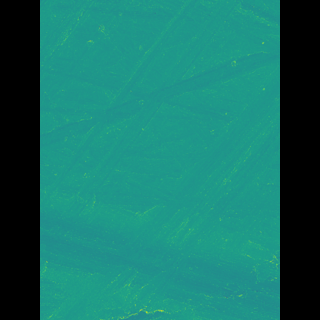Loch: (69, 50, 250, 319), (69, 196, 249, 319)
